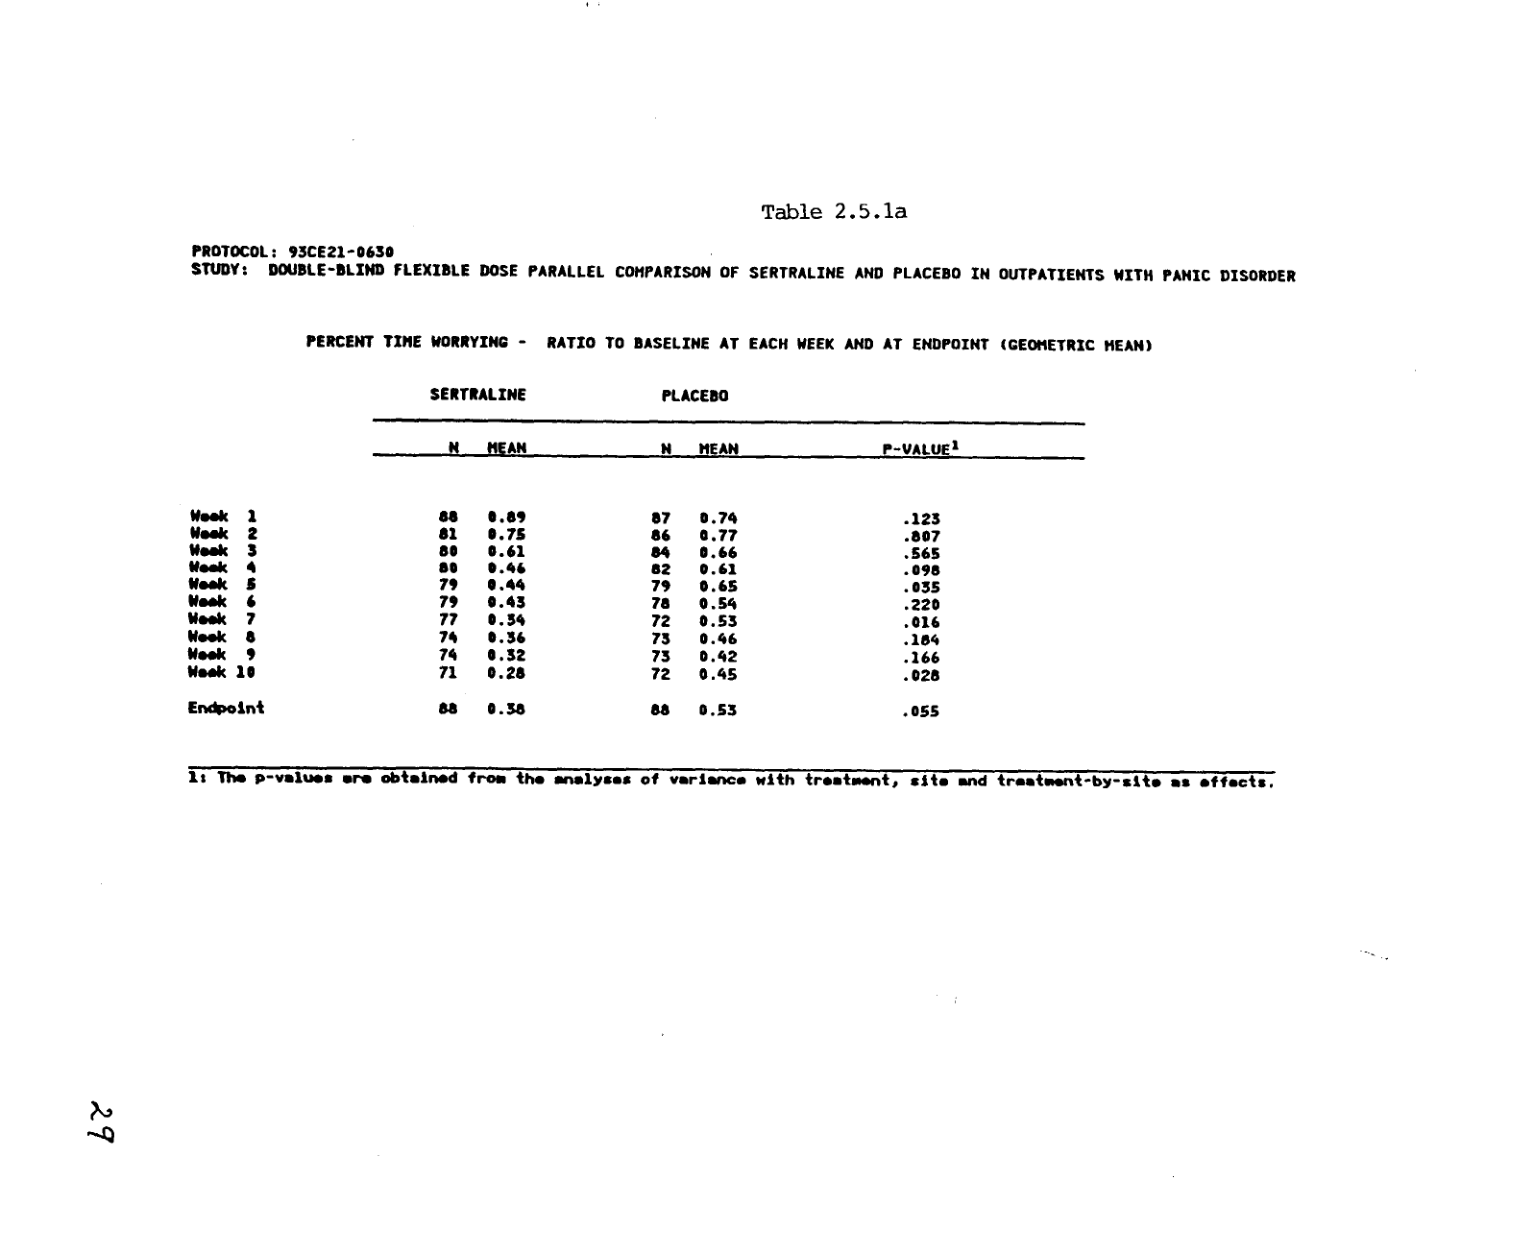partial_lined_merged_cells: (182, 385, 1086, 720)
